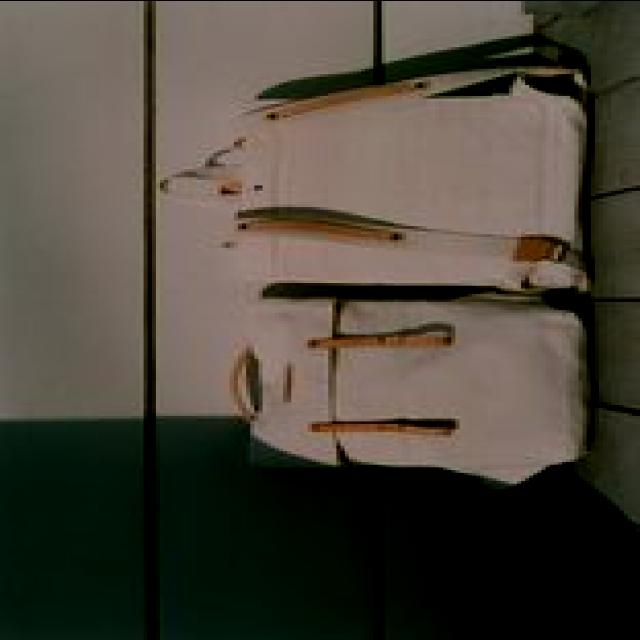backpack: (159, 55, 587, 297), (213, 297, 598, 483)
